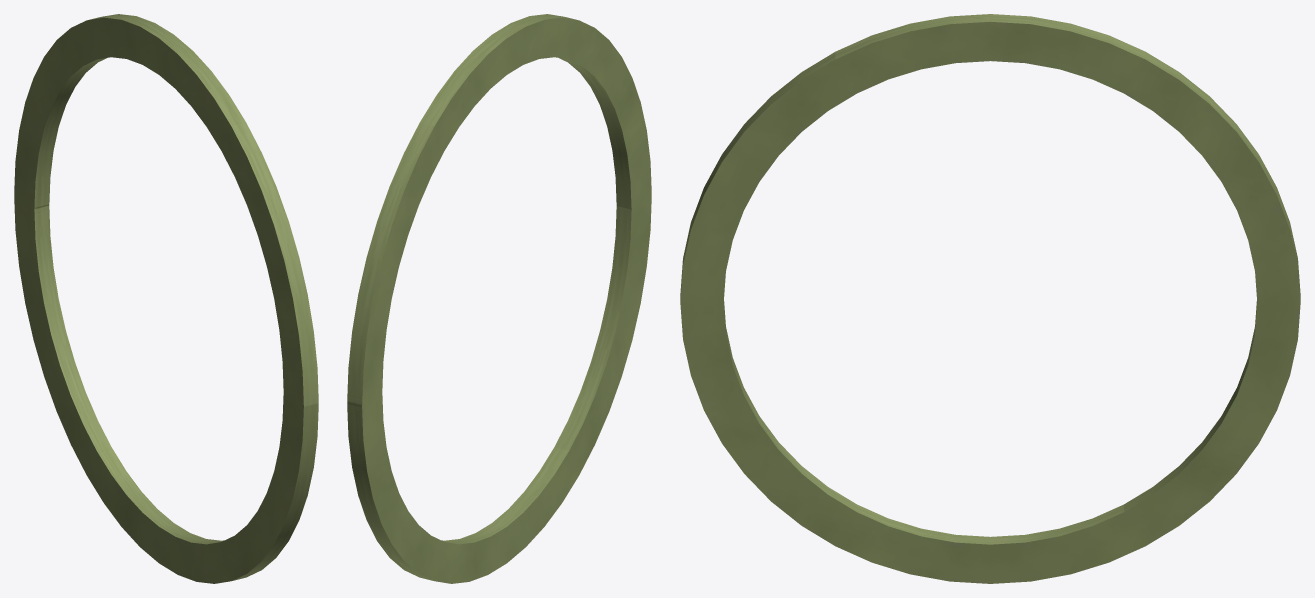
File: G10_Center.glb
3 renders of one model, left to right at view 1: azimuth 30°, elevation 25°; view 2: azimuth 150°, elevation 25°; view 3: azimuth 270°, elevation 25°, orthographic. The views are drawn at different scales.
Parts seen in each view (by area): view 1: New_HPM_G10_Centre_5Aug2024; view 2: New_HPM_G10_Centre_5Aug2024; view 3: New_HPM_G10_Centre_5Aug2024.
Boxes of the visible parts, x1,y1,x2,y2 form: New_HPM_G10_Centre_5Aug2024: [14, 14, 318, 583]; New_HPM_G10_Centre_5Aug2024: [347, 14, 651, 583]; New_HPM_G10_Centre_5Aug2024: [680, 14, 1300, 583].
Bounding box in the file's own units: 0.02 × 0.672 × 0.672.
1 material, 1 textured.
